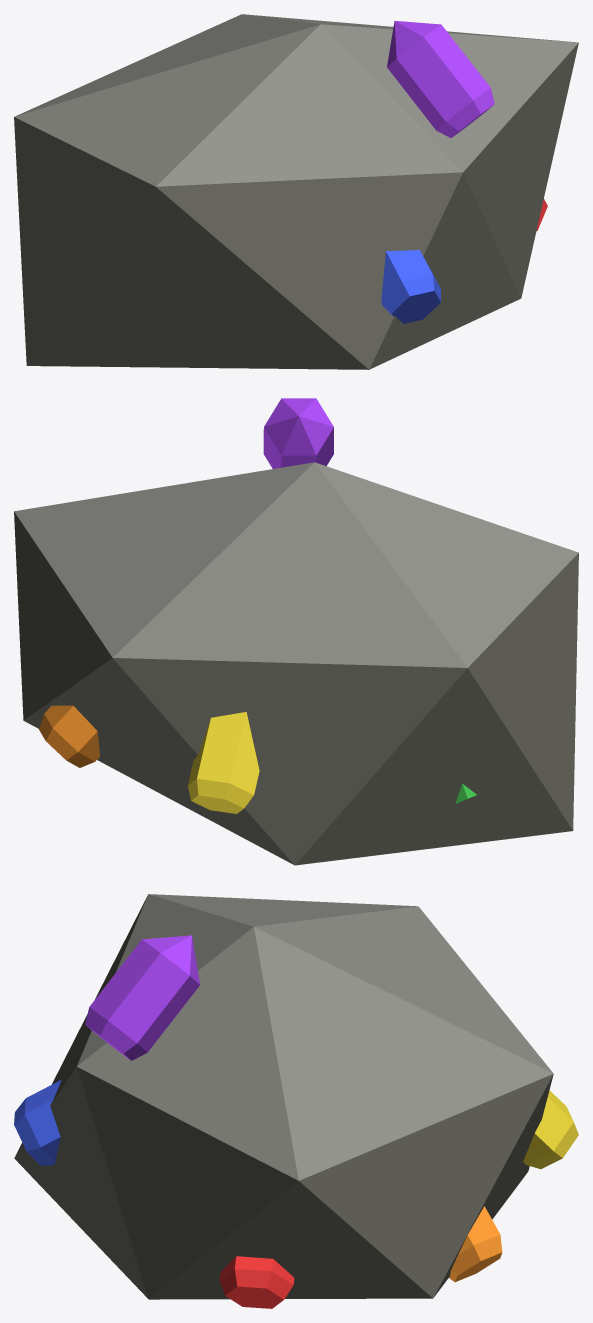
Rendered from RainbowOre.fbx.
The picture shows the model from 3 angles, top to bottom: view 1: azimuth 30°, elevation 25°; view 2: azimuth 150°, elevation 25°; view 3: azimuth 270°, elevation 25°; orthographic projection. The views are drawn at different scales.
Parts seen in each view (by area): view 1: RainbowOre; view 2: RainbowOre; view 3: RainbowOre.
Boxes of the visible parts, x1,y1,x2,y2 form: RainbowOre: [14, 14, 578, 369]; RainbowOre: [14, 398, 578, 865]; RainbowOre: [14, 894, 578, 1308].
Bounding box in the file's own units: 4.03 × 2.54 × 3.32.
Materials: 1 (1 with a texture image).
